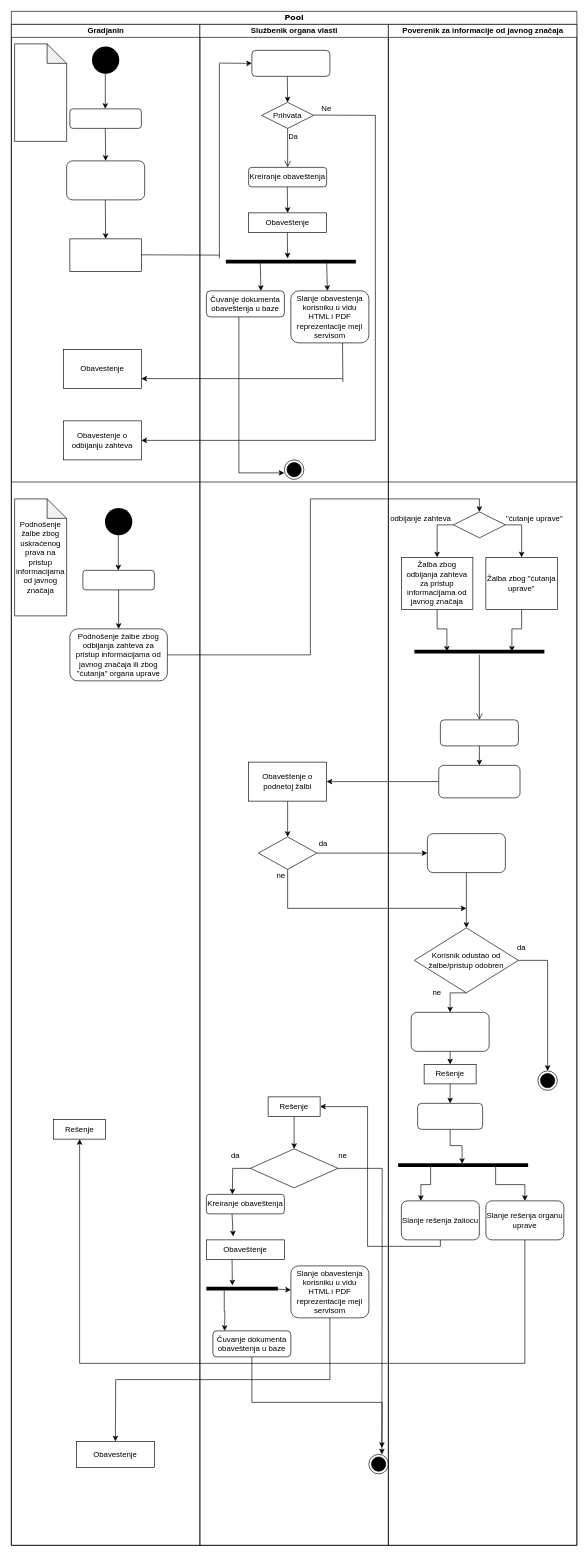
The diagram is 588 pixels wide and 1557 high, and some of its shapes have lost their labels. The shapes that lost their labels are listed below. From the top down, each one's centre as x and y in pixels, then its label:
point 290,63: Čuvanje zahteva u baze
point 40,92: Podnosenje zahteva za pristup informacijama od javnog značaja
point 105,118: Registracija
point 105,180: Podnošenje zahteva za pristup informacijama od javnog značaja
point 105,254: Zahtev za pristup informacijama od javnog značaja
point 479,524: Razlog
point 118,580: Prijava na sistem
point 479,732: Čuvanje žalbe u baze
point 479,781: Obaveštavanje organa vlasti o žalbi
point 287,852: Izjašnjava se
point 466,853: Razmatranje odgovora organa uprave na žalbu
point 449,1031: Formiranje rešenja po žalbi građanina
point 450,1116: Čuvanje rešenja u baze
point 294,1168: Žalba prihvaćena
